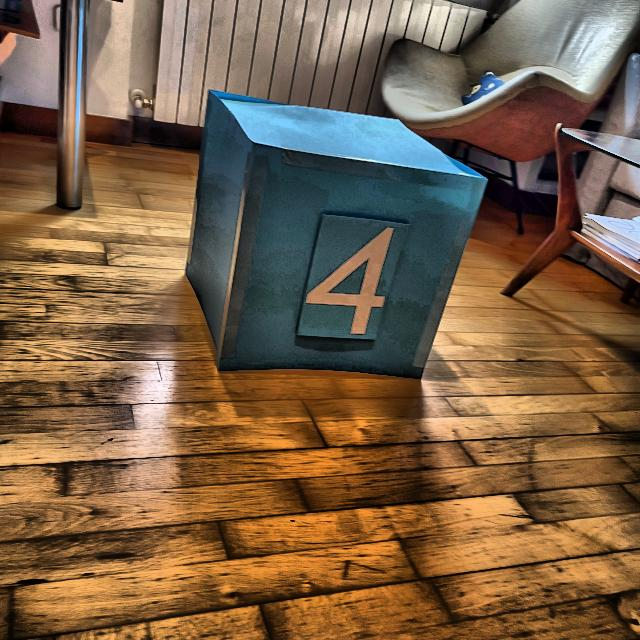blue box: (179, 90, 482, 384)
four: (306, 220, 394, 336)
